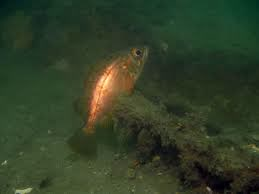mebaru: (65, 39, 163, 158)
